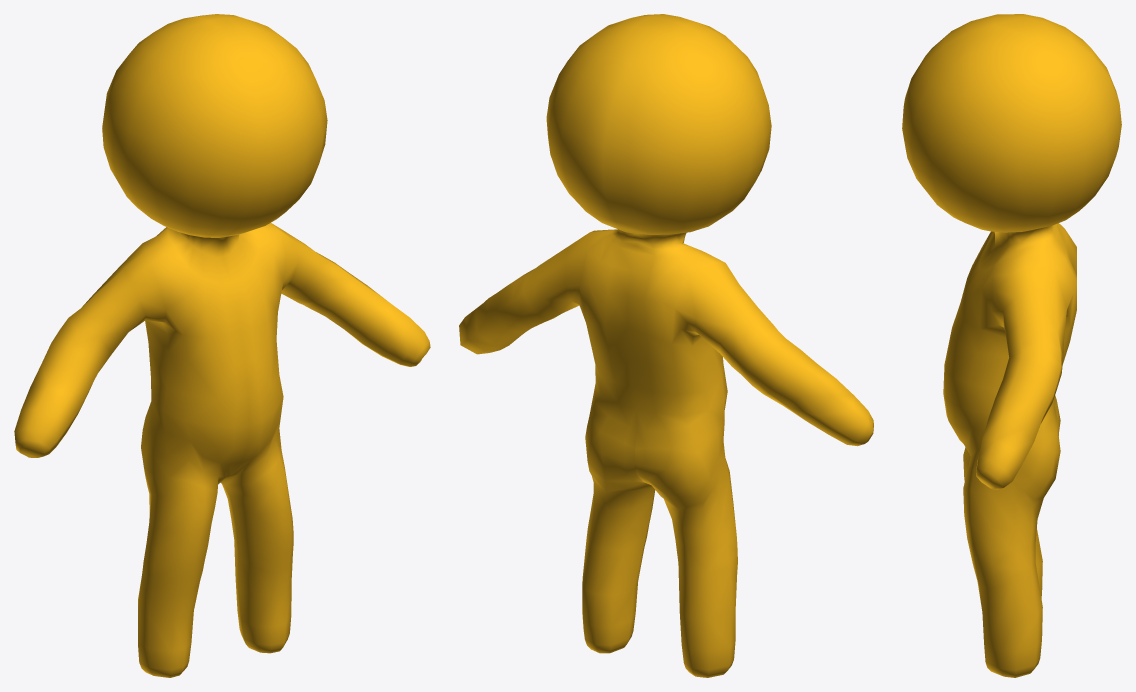
Rendered from fly.fbx.
The picture shows the model from 3 angles, left to right: view 1: azimuth 30°, elevation 25°; view 2: azimuth 150°, elevation 25°; view 3: azimuth 270°, elevation 25°; orthographic projection.
Parts seen in each view (by area): view 1: Stickman_heads_sphere; view 2: Stickman_heads_sphere; view 3: Stickman_heads_sphere.
Boxes of the visible parts, <box> form: Stickman_heads_sphere: <box>14,14,430,677</box>; Stickman_heads_sphere: <box>459,14,873,677</box>; Stickman_heads_sphere: <box>902,14,1121,677</box>.
Bounding box in the file's own units: 1.27 × 1.86 × 0.5932.
Materials: 1 (1 with a texture image).
